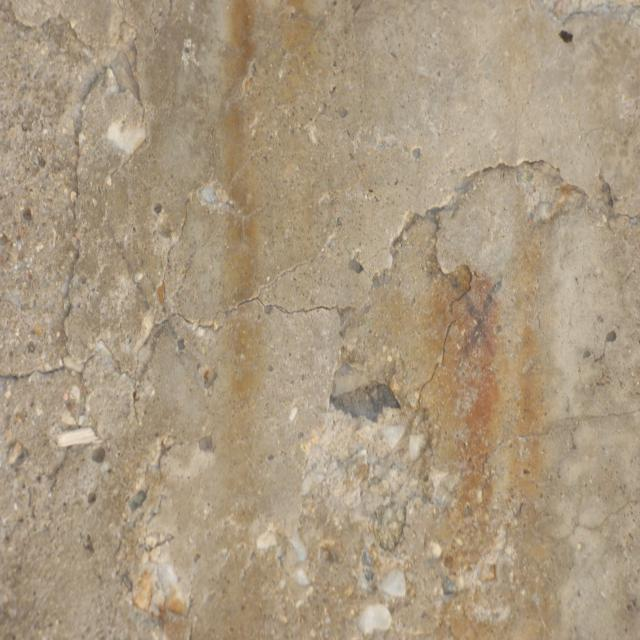corrosion: (437, 259, 560, 586), (212, 128, 277, 640), (205, 0, 320, 127)
